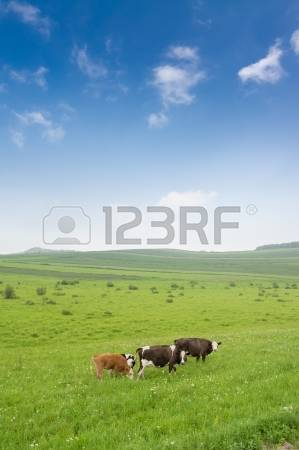sheep: (134, 345, 190, 378), (91, 351, 134, 385), (186, 337, 225, 363)
